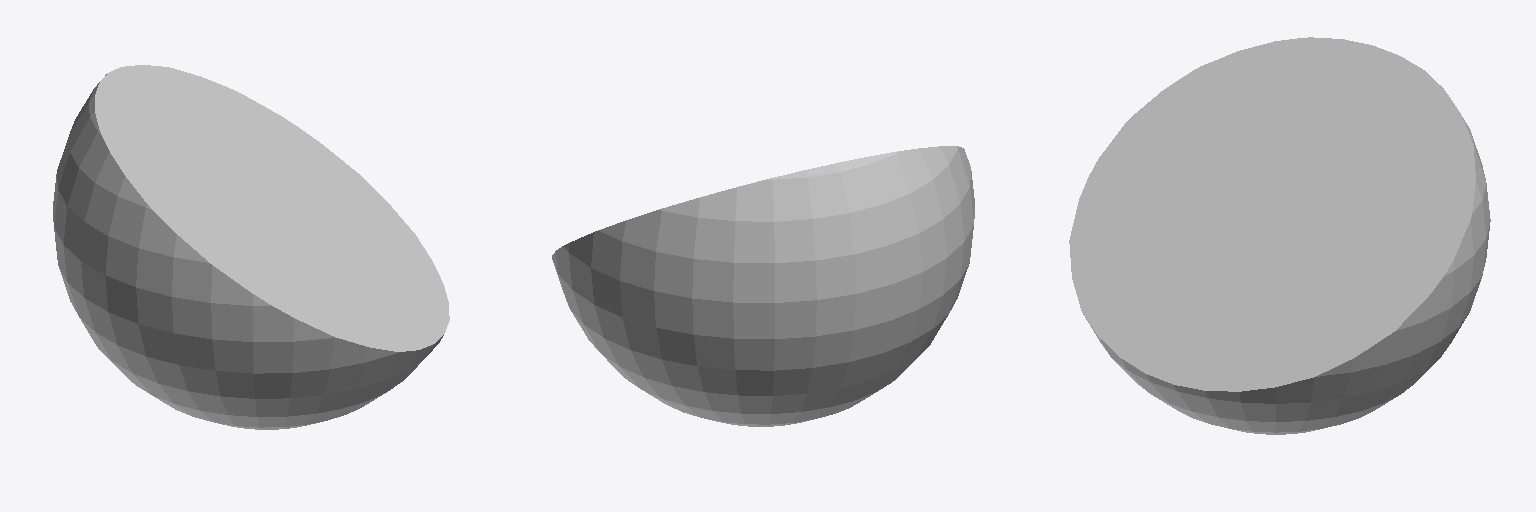
Rendered from vrag2Half1.obj.
3 views of the same model, side by side, from view 1: azimuth 30°, elevation 25°; view 2: azimuth 150°, elevation 25°; view 3: azimuth 270°, elevation 25° (orthographic).
Parts seen in each view (by area): view 1: Sphere; view 2: Sphere; view 3: Sphere.
Part boxes in pixels (x1,y1,x2,y2): Sphere: (53, 65, 449, 429); Sphere: (552, 146, 974, 426); Sphere: (1069, 37, 1490, 434).
Size of the model in its own units: 0.9529 by 0.7955 by 0.9813.